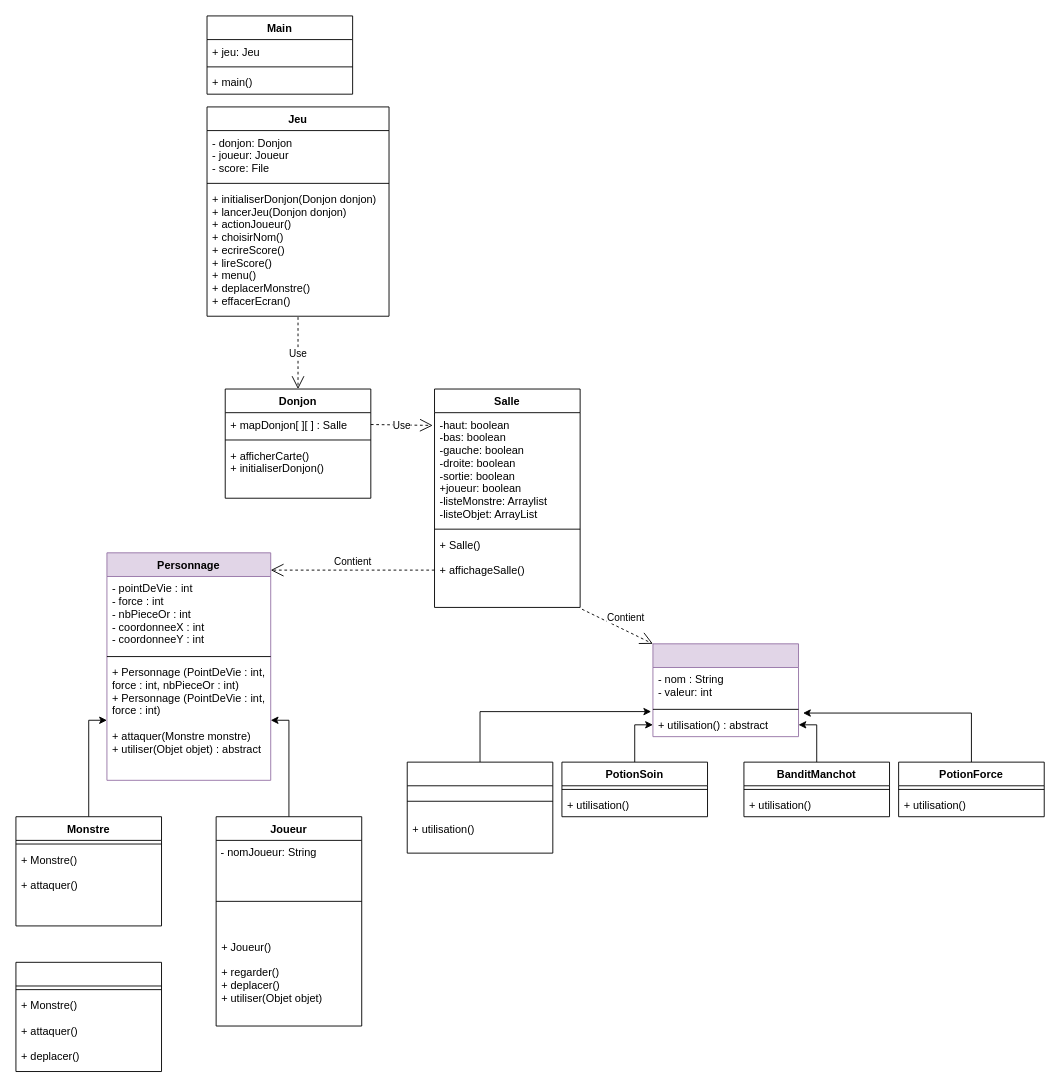
Some shapes in this 1060 by 1090 pixel diagram are drawn without their labels. The box of each missing label's shape, as (x1, y1, x2, y2) in pixels:
BourseOr: (406, 761, 553, 853)
MonstreAleatoire: (15, 961, 162, 1072)
Objet: (652, 643, 799, 737)
